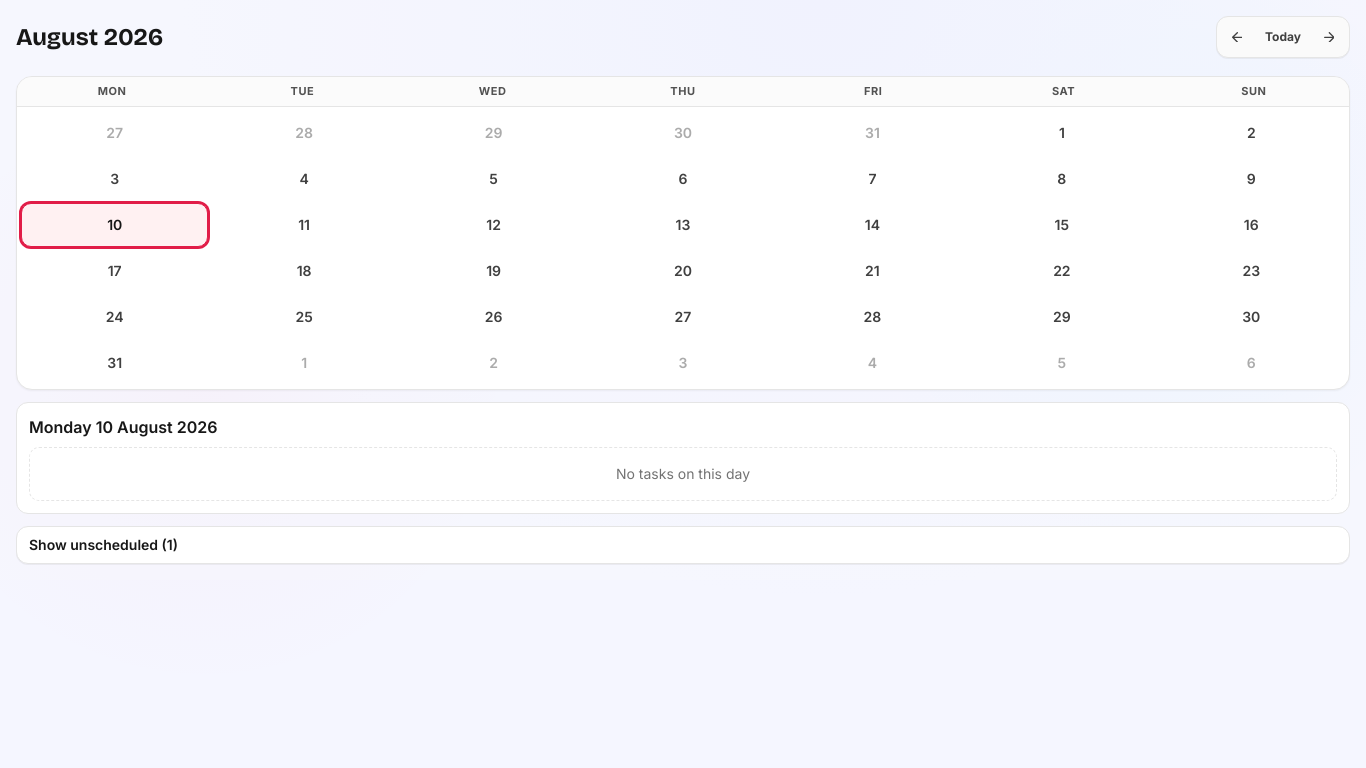
it: PlannerCalendar — mobile (compact grid + day agenda) › shows an honest empty message when the selected day has no tasks
Click the button named "14, No tasks": point(872, 224) x1=779 y1=202 x2=966 y2=246
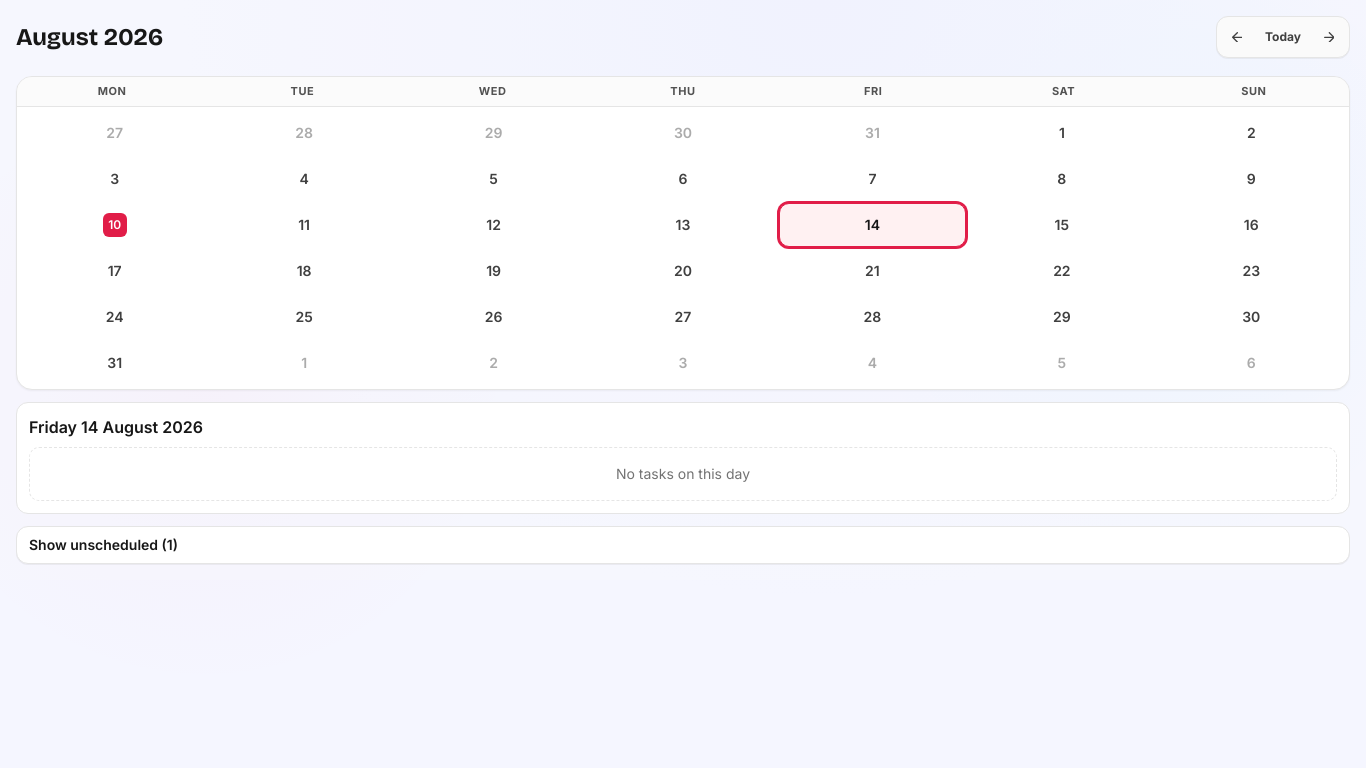
Expected: the text "No tasks on this day" is shown, x1=29 y1=446 x2=1337 y2=500
Now the heading "Friday 14 August 2026" is shown, box x1=29 y1=414 x2=203 y2=438
